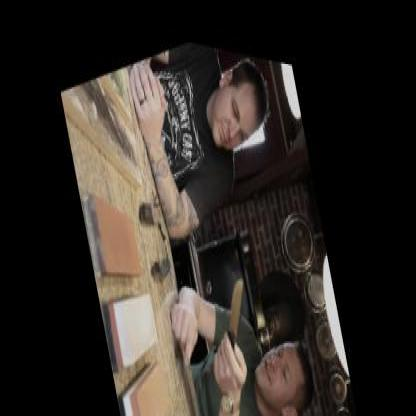knife: (206, 250, 263, 383)
